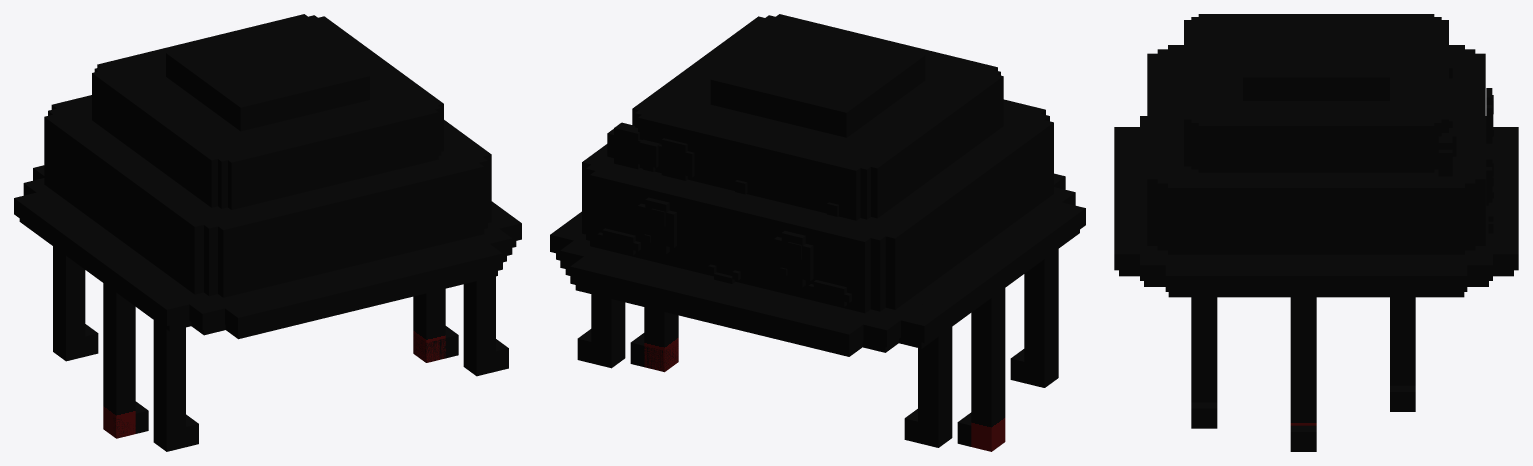
File: hat_jellyfish.obj
3 renders of one model, left to right at view 1: azimuth 30°, elevation 25°; view 2: azimuth 150°, elevation 25°; view 3: azimuth 270°, elevation 25°, orthographic. The views are drawn at different scales.
Bounding box in the file's own units: 0.6875 × 0.6 × 0.6875.
